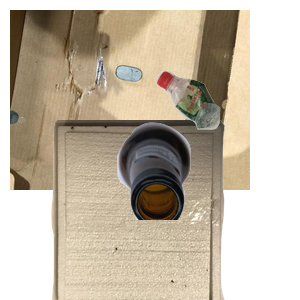cardboard: (10, 10, 250, 190)
glass: (115, 120, 300, 300)
plastic: (153, 68, 300, 190)
trash: (49, 120, 269, 300)
